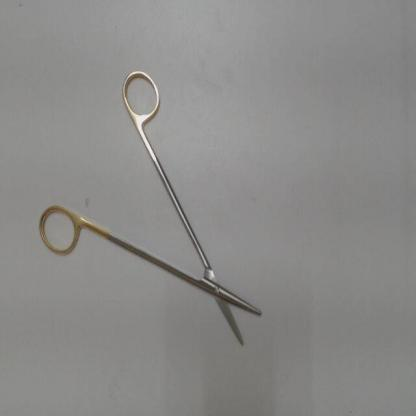7 Metzenbaum Scissors: (35, 64, 266, 355)
